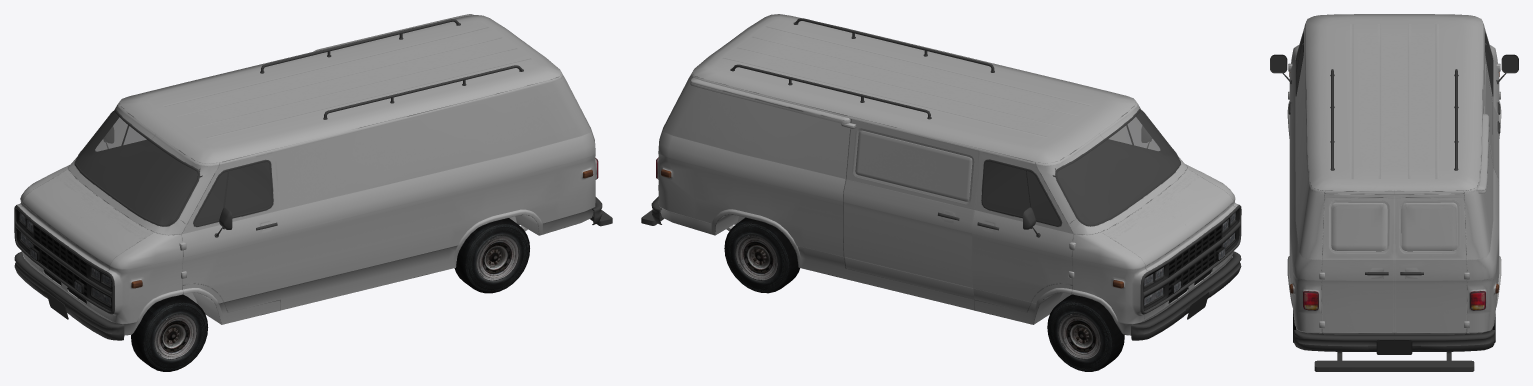
The model's file is minibus.gltf.
3 renders of one model, left to right at view 1: azimuth 30°, elevation 25°; view 2: azimuth 150°, elevation 25°; view 3: azimuth 270°, elevation 25°, orthographic. The views are drawn at different scales.
Parts seen in each view (by area): view 1: body, glass, void, chrome, wheel_01, wheel_02, lights, bottom; view 2: body, panel_door, glass, void, chrome, wheel_04, wheel_03, lights, bottom; view 3: body, chrome, panel_door, lights, glass, void.
Part boxes in pixels (x1,y1,x2,y2): body: [16, 14, 596, 335]; glass: [76, 111, 271, 224]; void: [76, 111, 271, 224]; chrome: [14, 19, 612, 340]; wheel_01: [131, 294, 208, 371]; wheel_02: [454, 218, 529, 293]; lights: [20, 158, 598, 305]; bottom: [183, 215, 538, 324]; body: [657, 14, 1239, 335]; panel_door: [843, 119, 979, 299]; glass: [983, 111, 1179, 224]; void: [983, 111, 1179, 224]; chrome: [641, 18, 1241, 340]; wheel_04: [1047, 294, 1124, 371]; wheel_03: [724, 217, 799, 293]; lights: [656, 157, 1235, 305]; bottom: [715, 214, 1071, 324]; body: [1287, 14, 1501, 354]; chrome: [1270, 32, 1518, 371]; panel_door: [1483, 52, 1499, 185]; lights: [1289, 72, 1499, 310]; glass: [1296, 35, 1492, 93]; void: [1296, 35, 1492, 93].
Size of the model in its own units: 5.29 by 2 by 2.24.
7 materials, 3 textured.
